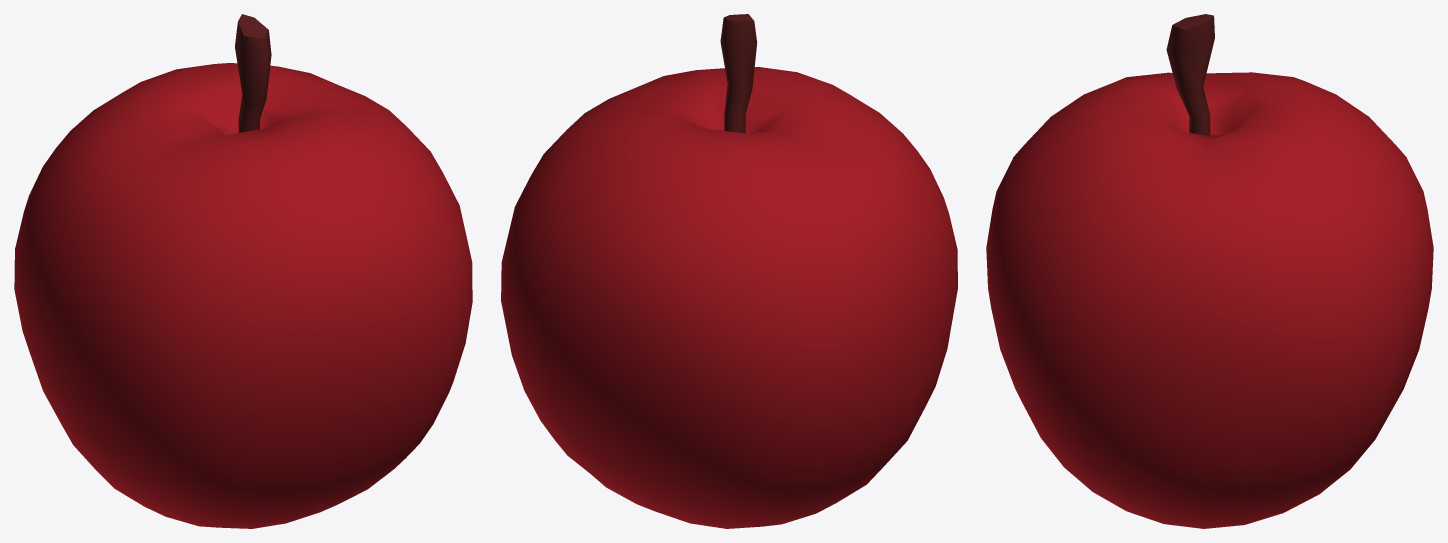
File: apple.fbx
3 renders of one model, left to right at view 1: azimuth 30°, elevation 25°; view 2: azimuth 150°, elevation 25°; view 3: azimuth 270°, elevation 25°, orthographic.
Parts seen in each view (by area): view 1: Apple; view 2: Apple; view 3: Apple.
Part boxes in pixels (left/top/right/bottom): Apple: left=14, top=14, right=472, bottom=528; Apple: left=501, top=14, right=957, bottom=528; Apple: left=986, top=14, right=1433, bottom=528.
Bounding box in the file's own units: 8302 × 10276 × 8449.
